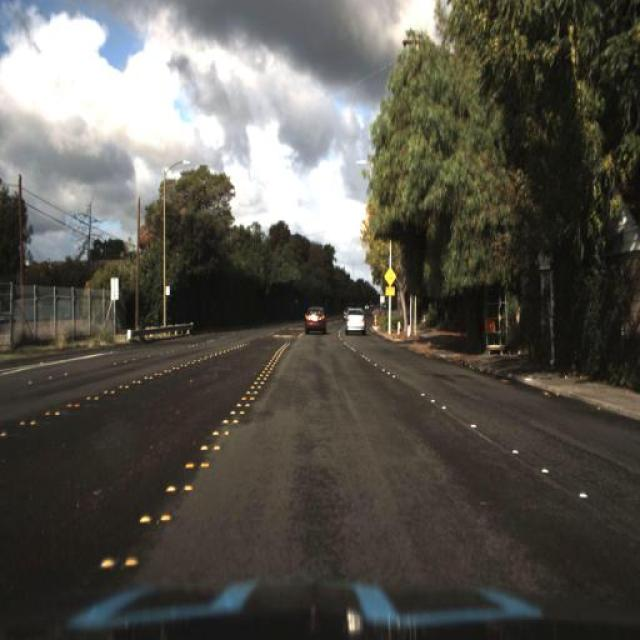car: (300, 302, 328, 336), (341, 306, 368, 338)
